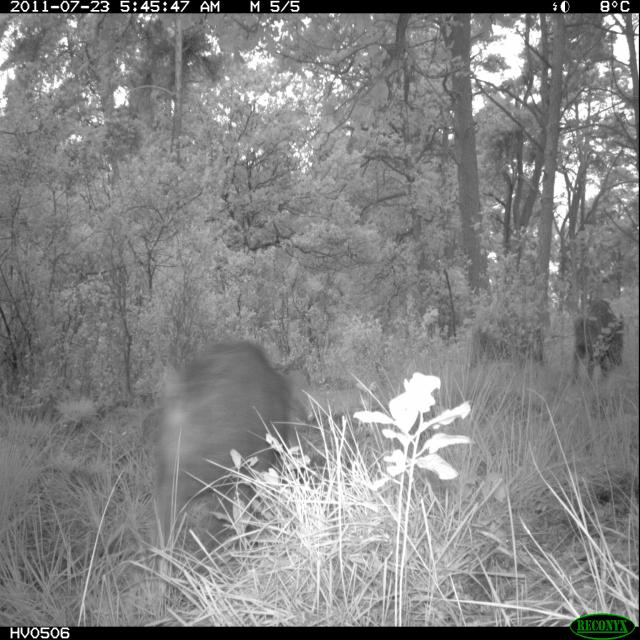boar: (143, 306, 316, 532), (566, 283, 629, 377)
